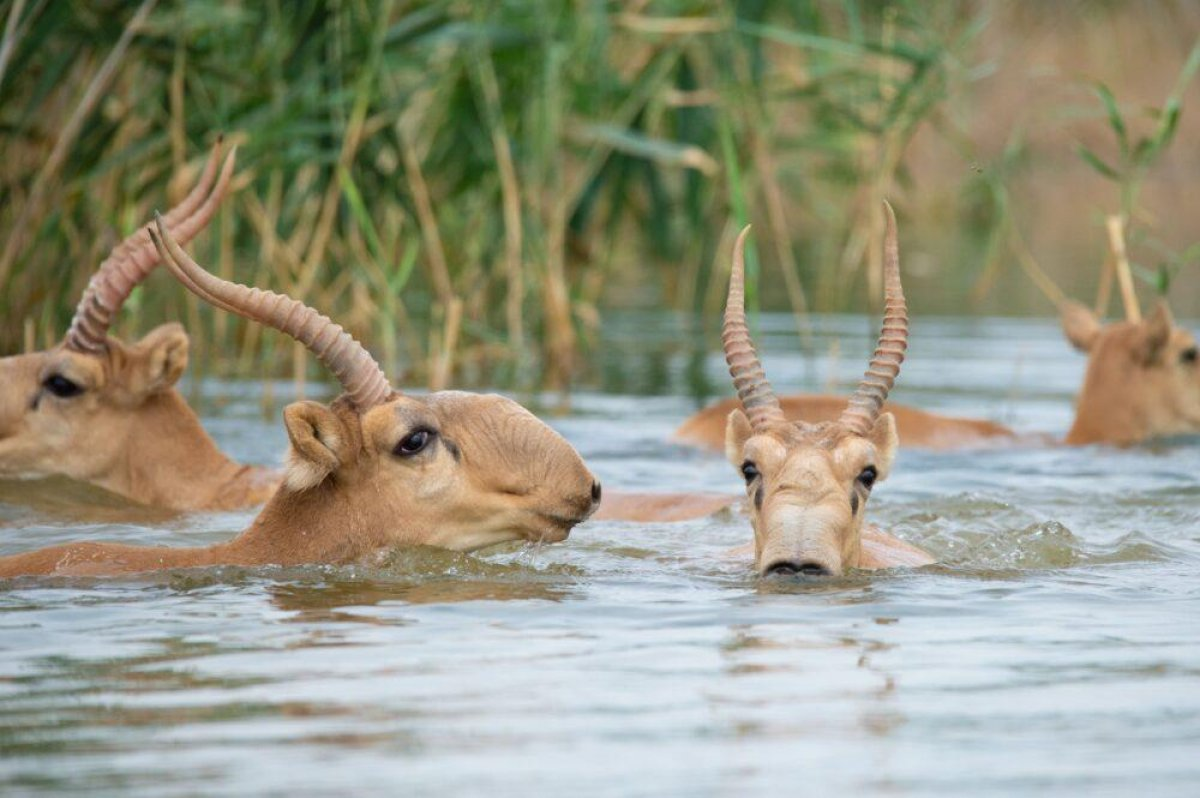saiga: (28, 206, 640, 600), (702, 208, 951, 586)
